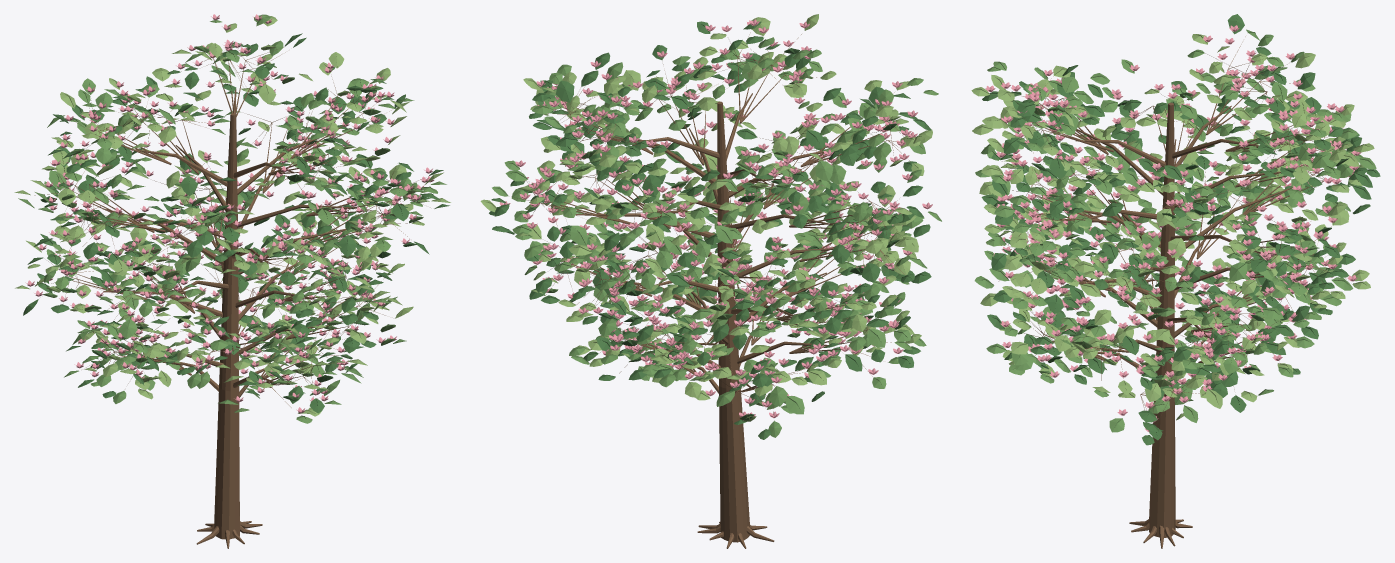
The model's file is sakura-tree.glb.
The picture shows the model from 3 angles, left to right: view 1: azimuth 30°, elevation 25°; view 2: azimuth 150°, elevation 25°; view 3: azimuth 270°, elevation 25°; orthographic projection. The views are drawn at different scales.
Visible parts, largest first — view 1: sakura-tree; view 2: sakura-tree; view 3: sakura-tree.
Part boxes in pixels (x1,y1,x2,y2): sakura-tree: [14, 14, 450, 548]; sakura-tree: [480, 14, 941, 548]; sakura-tree: [971, 14, 1380, 548].
Size of the model in its own units: 3.4 by 4 by 3.2.
